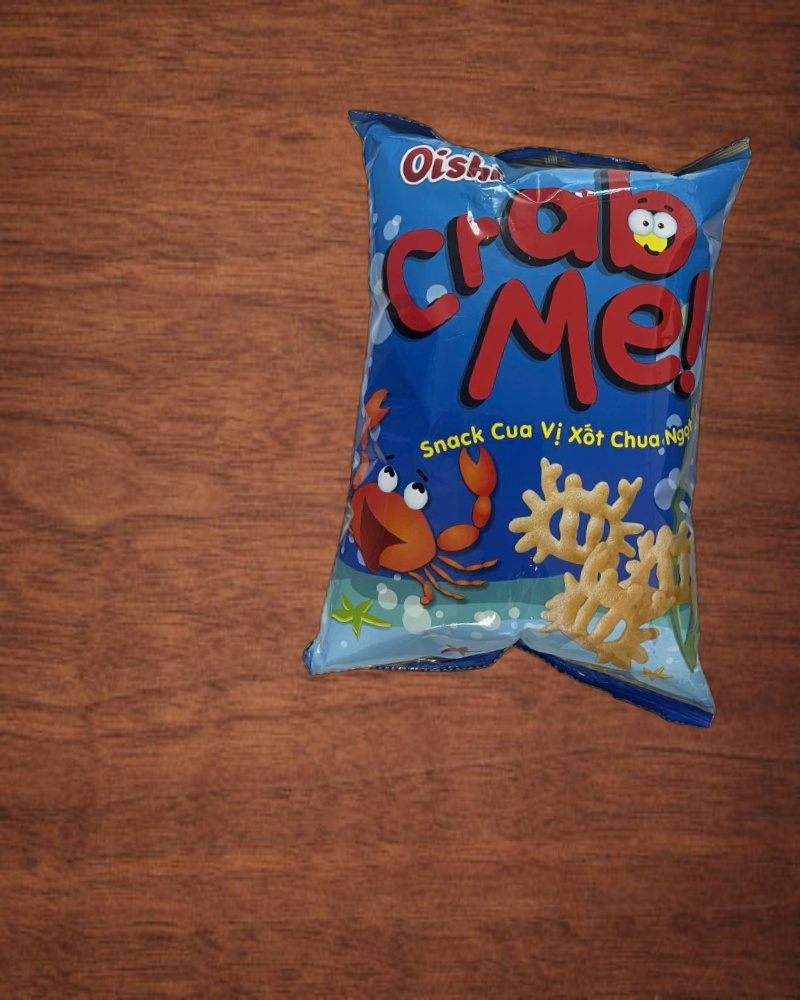Snack cua: (299, 102, 766, 723)
